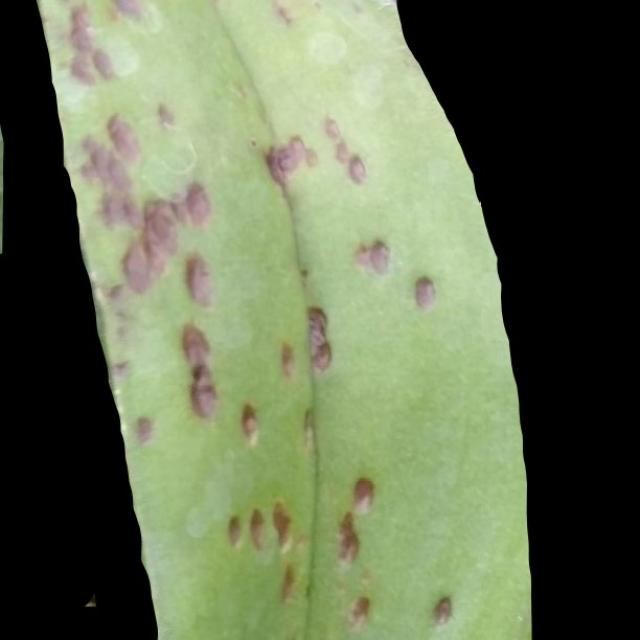mite: (152, 110, 457, 624), (219, 471, 458, 630), (343, 589, 457, 630), (223, 499, 294, 552), (304, 28, 349, 68), (425, 588, 459, 630), (350, 474, 375, 515), (247, 505, 267, 551), (237, 401, 259, 442), (347, 593, 372, 628), (345, 152, 367, 185), (431, 594, 454, 625), (133, 413, 155, 444), (225, 511, 243, 547)
spots: (35, 1, 533, 638)
